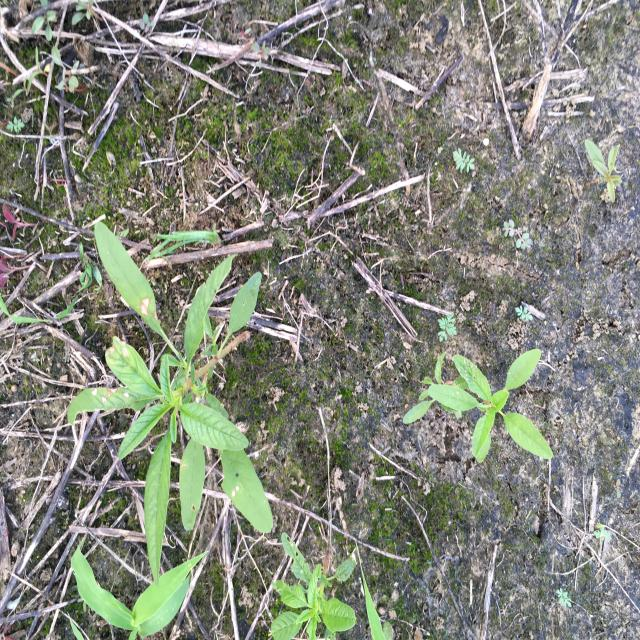Ragweed: (436, 311, 458, 345)
SpottedSpurge: (500, 218, 534, 258)
Waterhemp: (65, 219, 275, 591), (401, 347, 556, 466), (266, 532, 360, 640), (582, 137, 625, 204)
